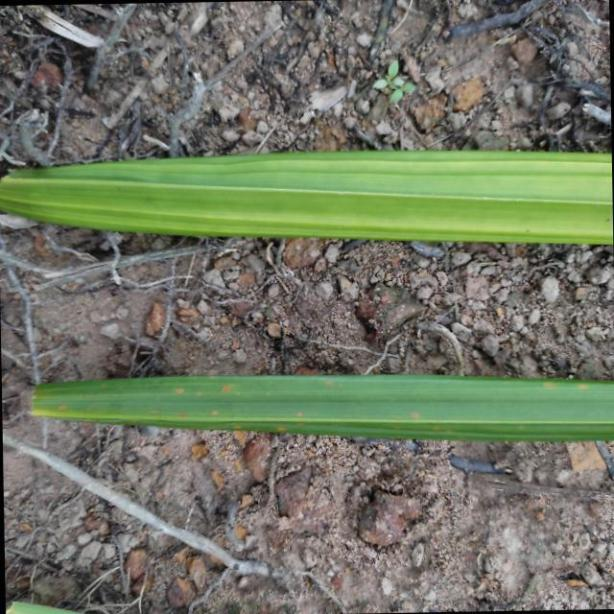nitrogen: (6, 146, 614, 246), (59, 371, 614, 444)
